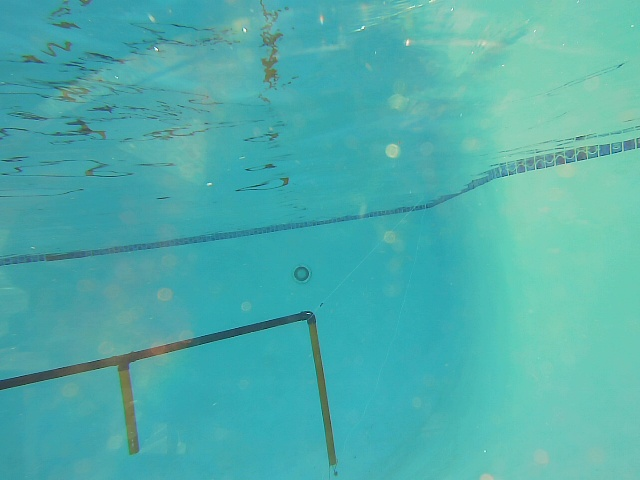Gate: (305, 321, 342, 470), (117, 363, 140, 456)
